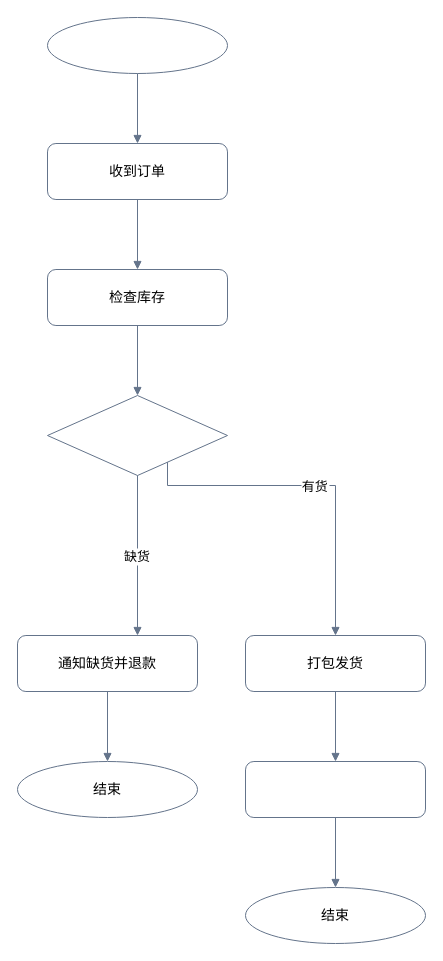
Some shapes in this 443 by 961 pixel diagram are drawn without their labels. Here are the shapes that lost their labels. From the top down, the box of each, then its label:
(46, 16, 228, 74): 开始
(46, 394, 228, 476): 库存充足？
(244, 760, 426, 818): 通知客户
